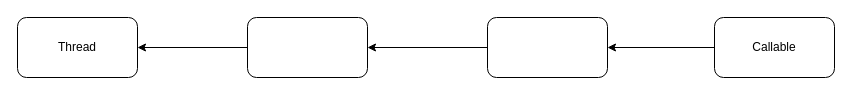
The diagram is 852 pixels wide and 95 high, and some of its shapes have lost their labels. The shapes that lost their labels are listed below. From the top down, each one's centre as x and y in pixels, then its label:
At pixel 307 47: "Runnable".
At pixel 547 47: "FutureTask".
